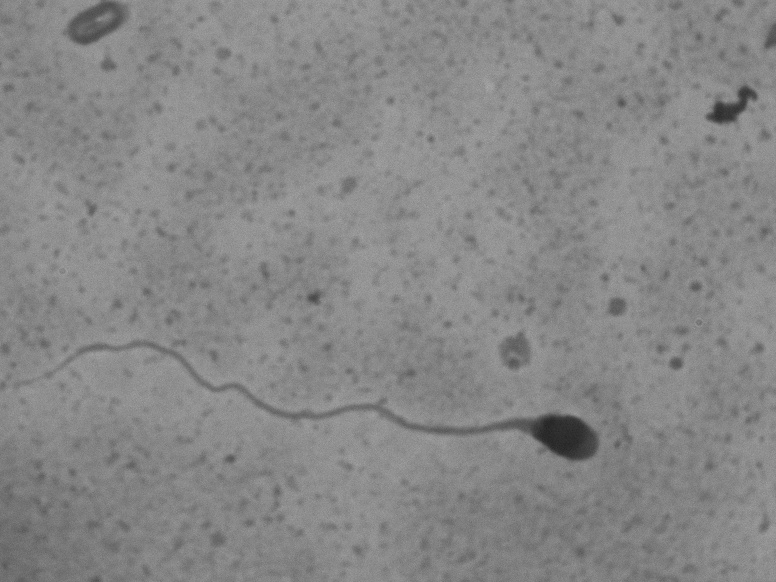Normal: (13, 321, 616, 478)
